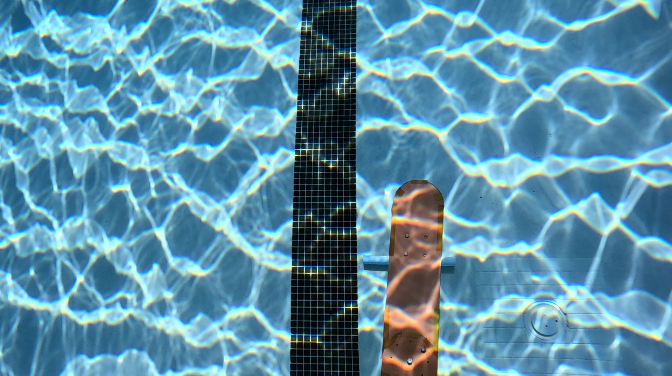pathmarker: (381, 180, 443, 375)
